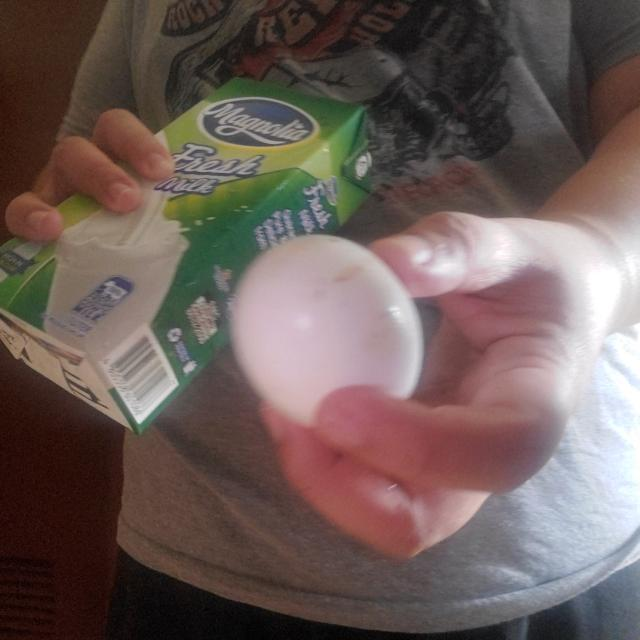egg: (243, 234, 423, 426)
milk: (0, 70, 328, 409)
